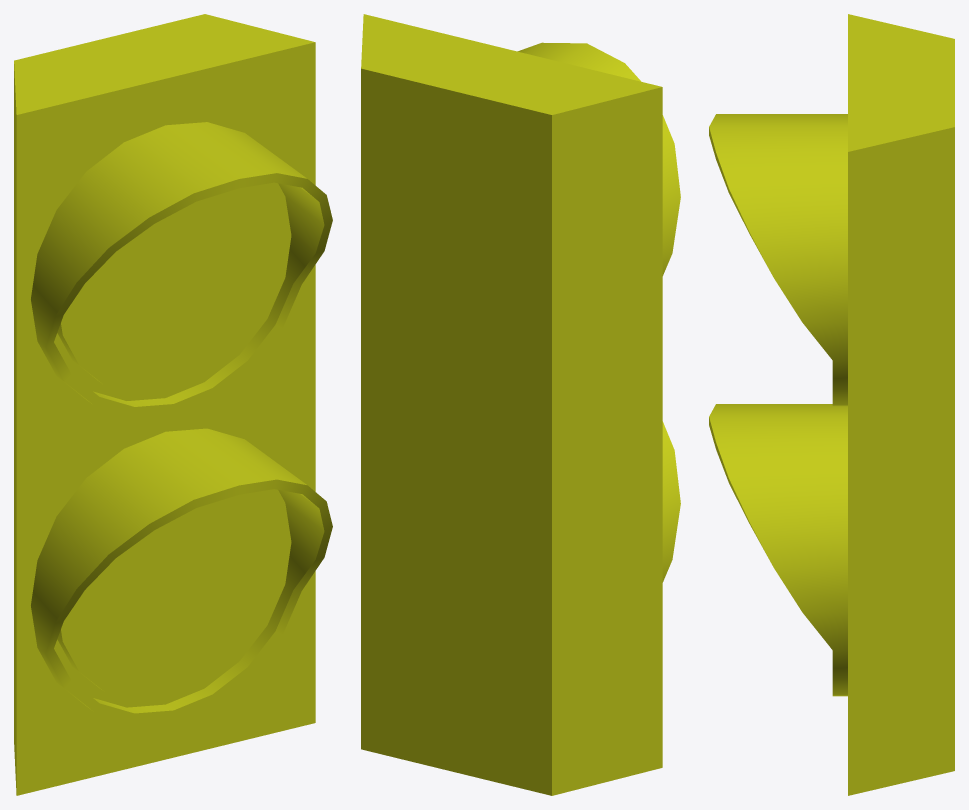
The model's file is lamp_traffic.FBX.
The picture shows the model from 3 angles, left to right: view 1: azimuth 30°, elevation 25°; view 2: azimuth 150°, elevation 25°; view 3: azimuth 270°, elevation 25°; orthographic projection. The views are drawn at different scales.
Parts seen in each view (by area): view 1: traffic_o_lamp; view 2: traffic_o_lamp; view 3: traffic_o_lamp.
Boxes of the visible parts, box(x1,y1,x2,y2) form: traffic_o_lamp: box(14, 14, 332, 795); traffic_o_lamp: box(361, 14, 680, 795); traffic_o_lamp: box(709, 14, 954, 795).
Bounding box in the file's own units: 26.54 × 19.97 × 57.73.
